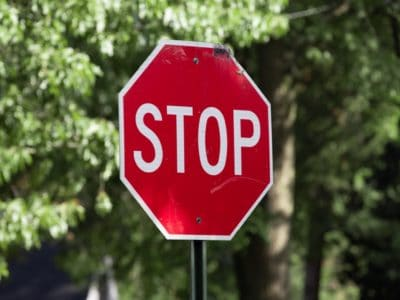stop: (124, 52, 268, 233)
